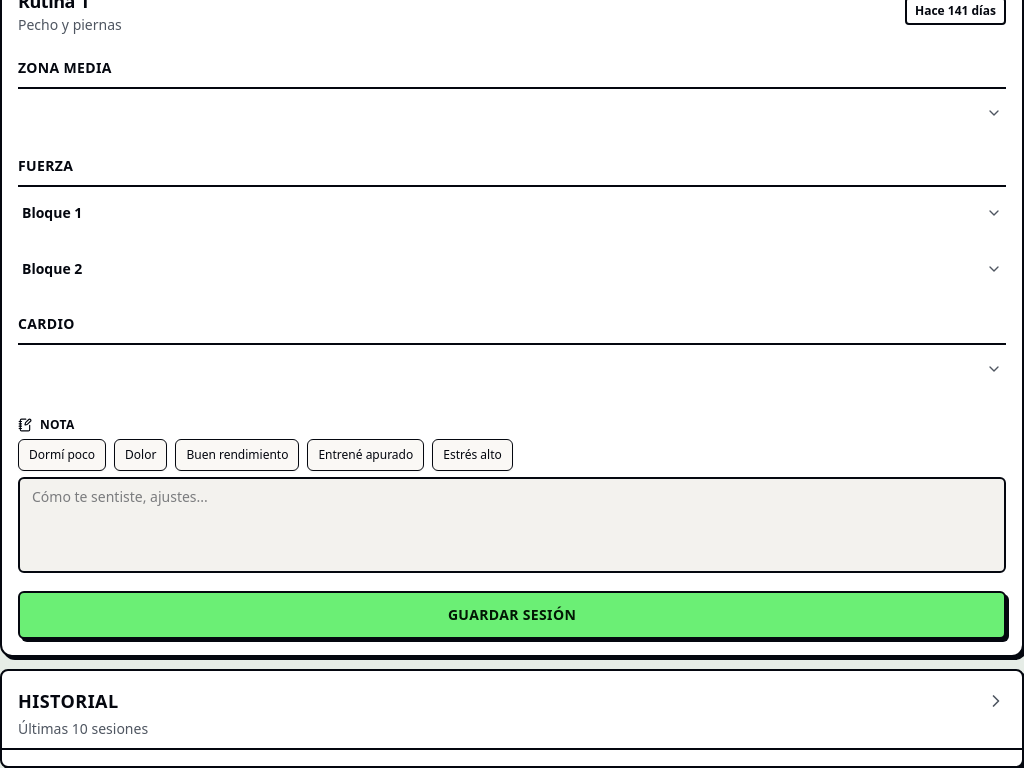
Test: WorkoutApp › groups global quick note chips under the session line
The width and height of the screenshot is (1024, 768).
(page scrolled)
Click the button "Dormí poco" at (62, 455), box [18, 439, 106, 471]
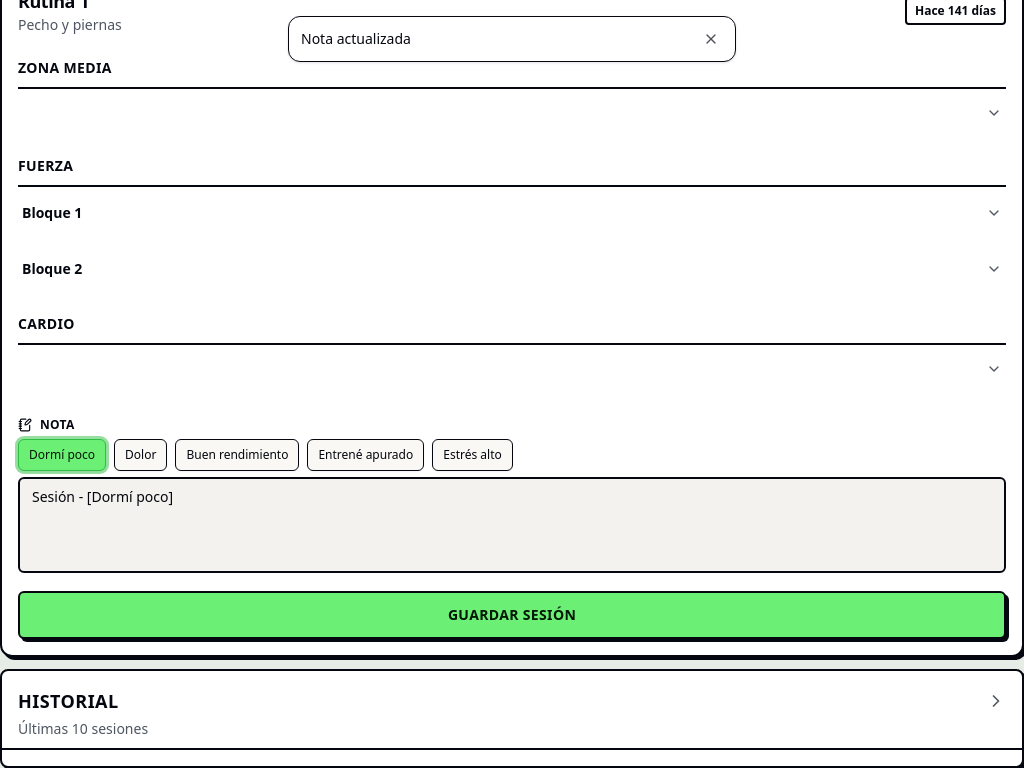
Click the button "Dolor" at (141, 455), box [114, 439, 167, 471]
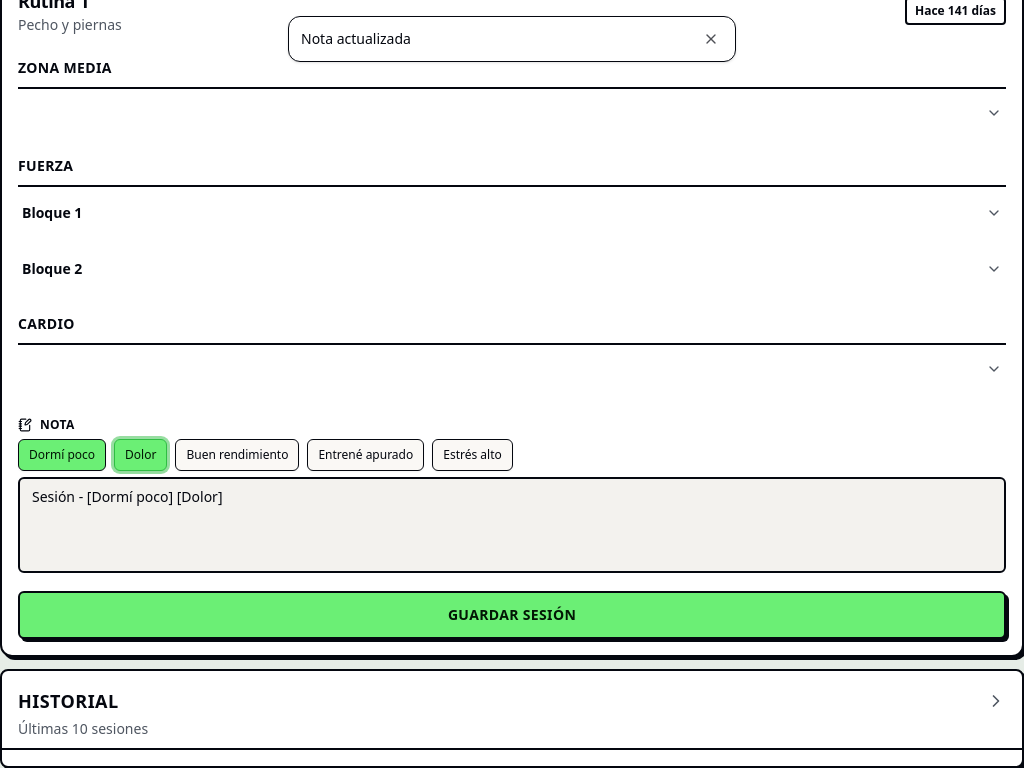
Expected: the text "Nota actualizada" is shown, [301, 29, 411, 49]
Expected: the text box with placeholder "Cómo te sentiste, ajustes..." holds "Sesión - [Dormí poco] [Dolor]", [18, 477, 1006, 573]
Click the button "Dormí poco" at (62, 455), box [18, 439, 106, 471]
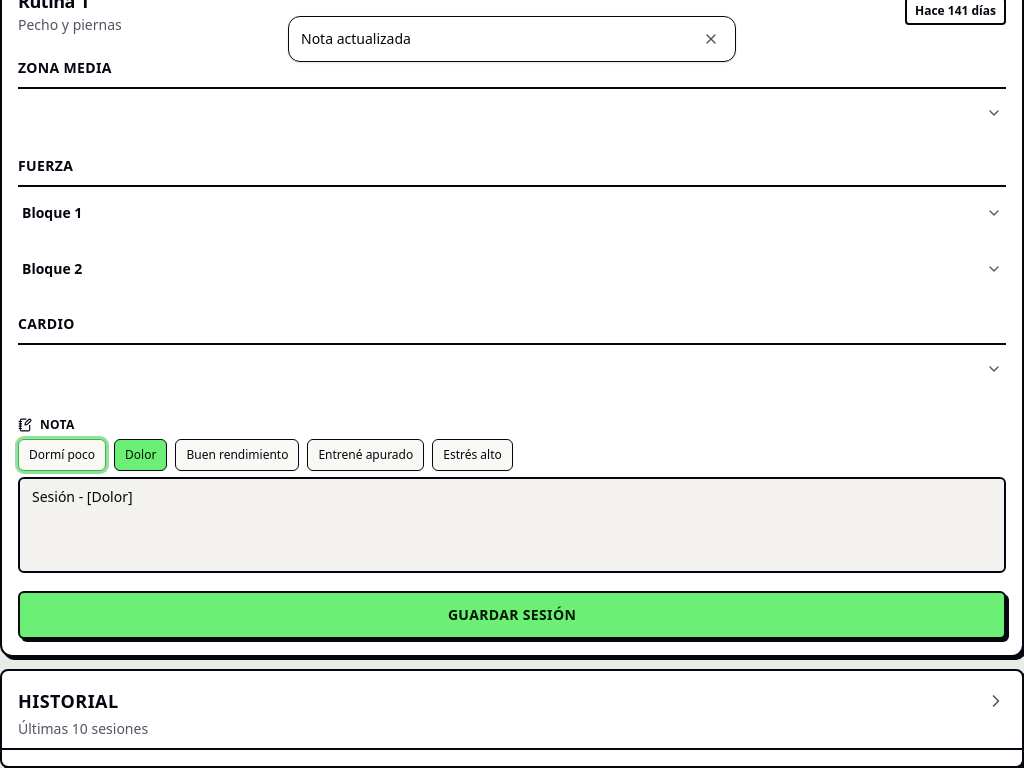
Expected: the text box with placeholder "Cómo te sentiste, ajustes..." holds "Sesión - [Dolor]", [18, 477, 1006, 573]
